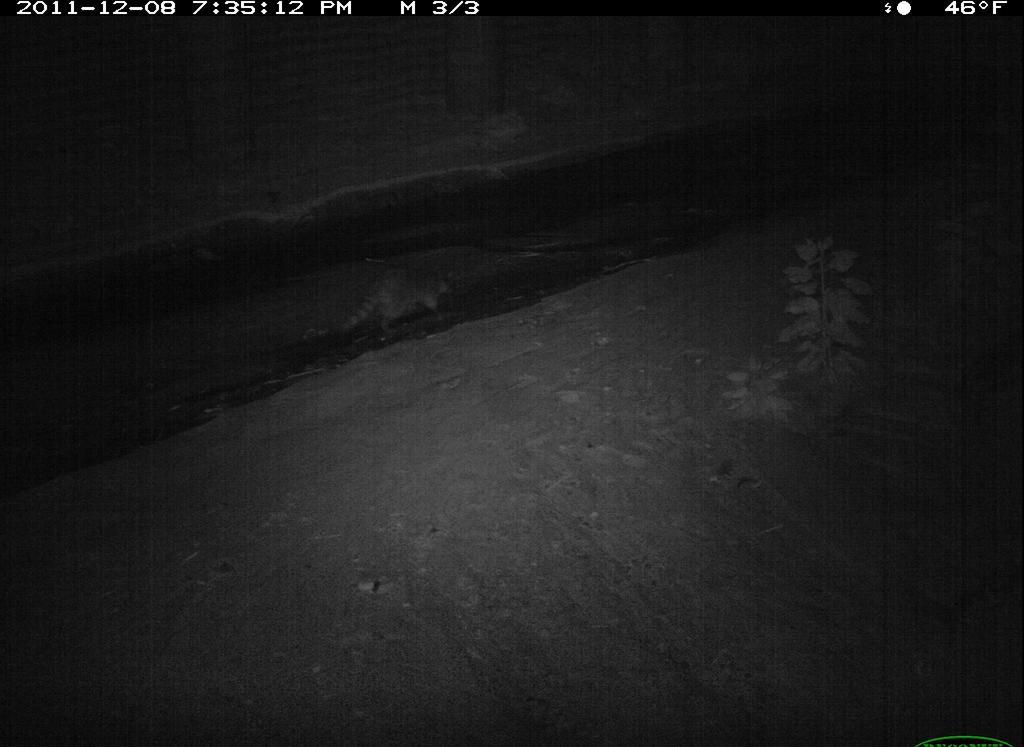raccoon: (333, 251, 459, 349)
